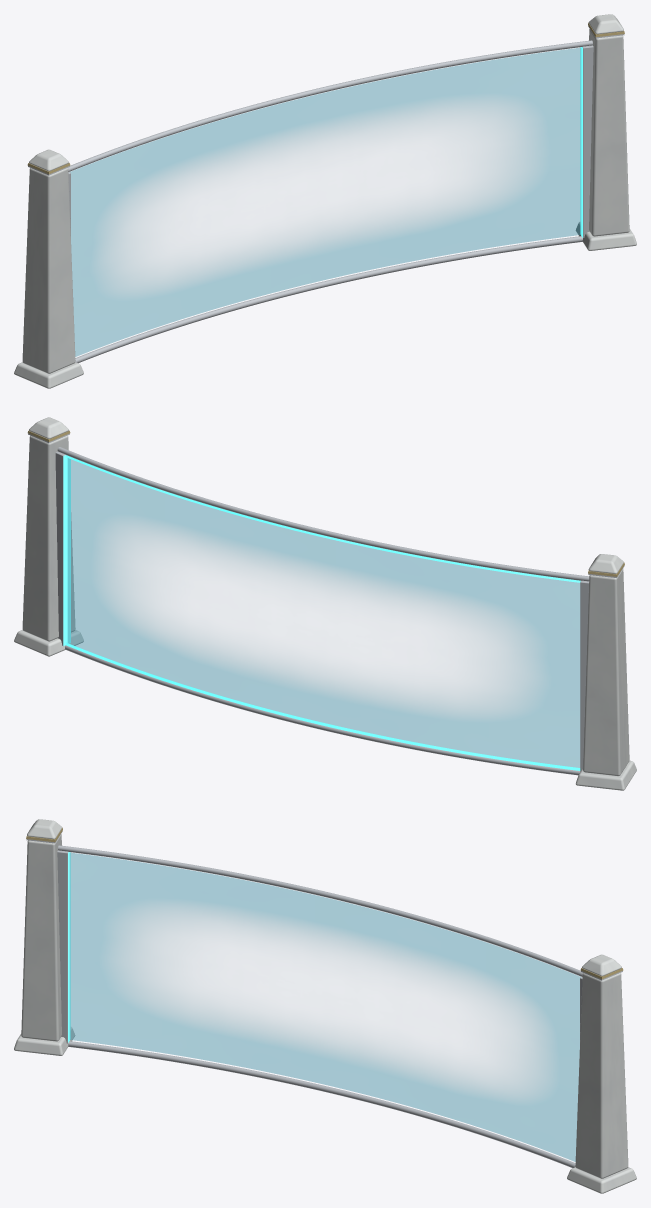
File: temporary_barrier_polish2.glb
3 renders of one model, top to bottom at view 1: azimuth 30°, elevation 25°; view 2: azimuth 150°, elevation 25°; view 3: azimuth 330°, elevation 25°, orthographic.
Parts seen in each view (by area): view 1: BarrierField, BarrierPylons, BarrierFrame, BarrierDockGlow; view 2: BarrierField, BarrierPylons, BarrierFrame, BarrierEmitters, BarrierDockGlow; view 3: BarrierField, BarrierPylons, BarrierFrame, BarrierDockGlow.
Part boxes in pixels (x1,y1,x2,y2): BarrierField: [70, 48, 580, 356]; BarrierPylons: [14, 14, 636, 388]; BarrierFrame: [28, 26, 624, 363]; BarrierDockGlow: [580, 47, 582, 237]; BarrierField: [68, 458, 579, 767]; BarrierPylons: [14, 417, 636, 790]; BarrierFrame: [28, 433, 624, 775]; BarrierEmitters: [66, 455, 580, 770]; BarrierDockGlow: [63, 455, 70, 646]; BarrierField: [70, 853, 580, 1161]; BarrierPylons: [14, 819, 636, 1193]; BarrierFrame: [26, 831, 622, 1168]; BarrierDockGlow: [68, 852, 70, 1042].
Bounding box in the file's own units: 5.73 × 1.98 × 0.6169.
Materials: 6 (2 with a texture image).
